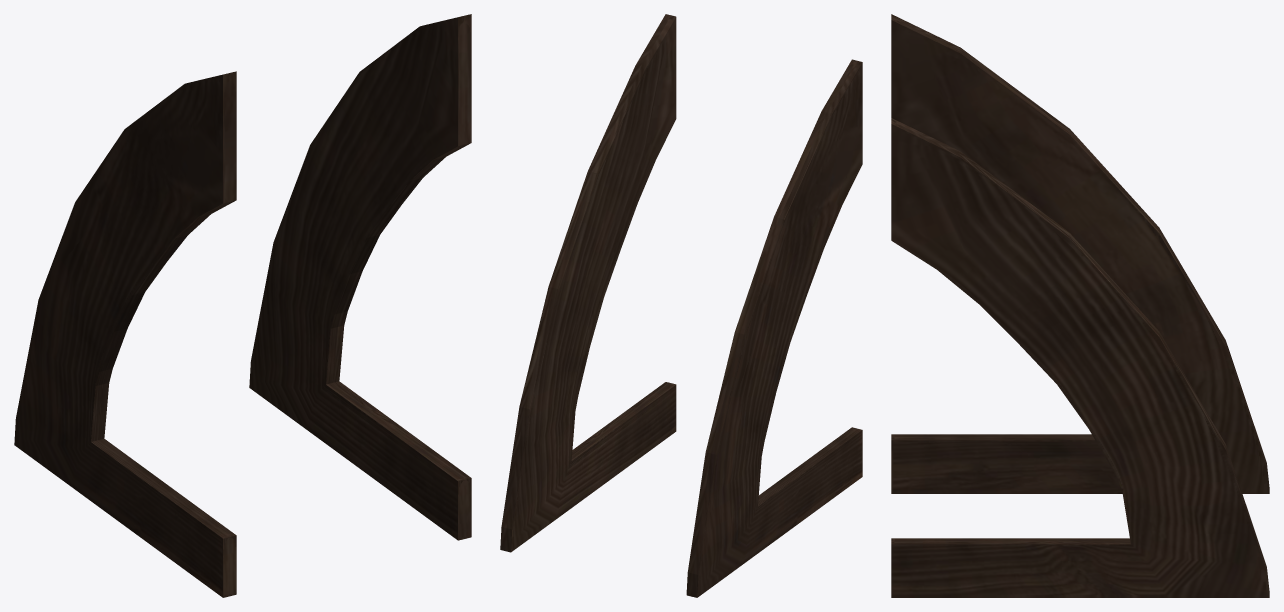
The model's file is Rack.fbx.
The picture shows the model from 3 angles, left to right: view 1: azimuth 30°, elevation 25°; view 2: azimuth 150°, elevation 25°; view 3: azimuth 270°, elevation 25°; orthographic projection. The views are drawn at different scales.
Visible parts, largest first — view 1: Export rack; view 2: Export rack; view 3: Export rack.
Boxes of the visible parts, left/top/right/bottom form: Export rack: left=14, top=14, right=471, bottom=597; Export rack: left=500, top=14, right=862, bottom=597; Export rack: left=891, top=14, right=1269, bottom=597.
Bounding box in the file's own units: 14.72 × 29.61 × 21.41.
